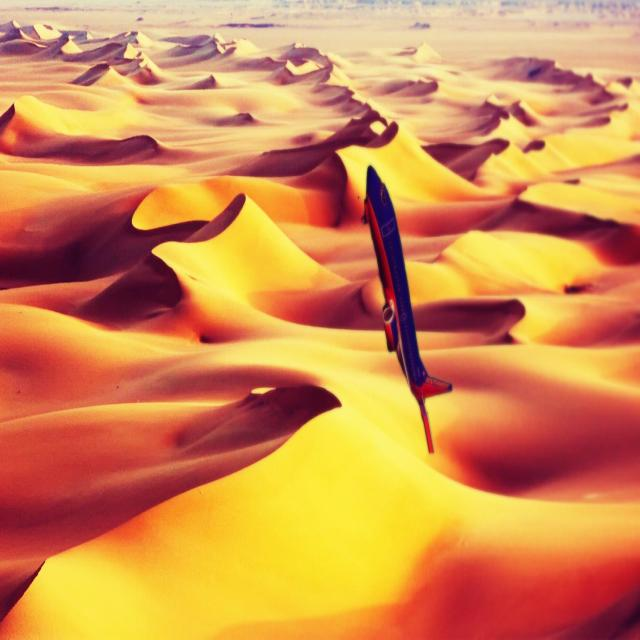airplane: (360, 163, 452, 454)
